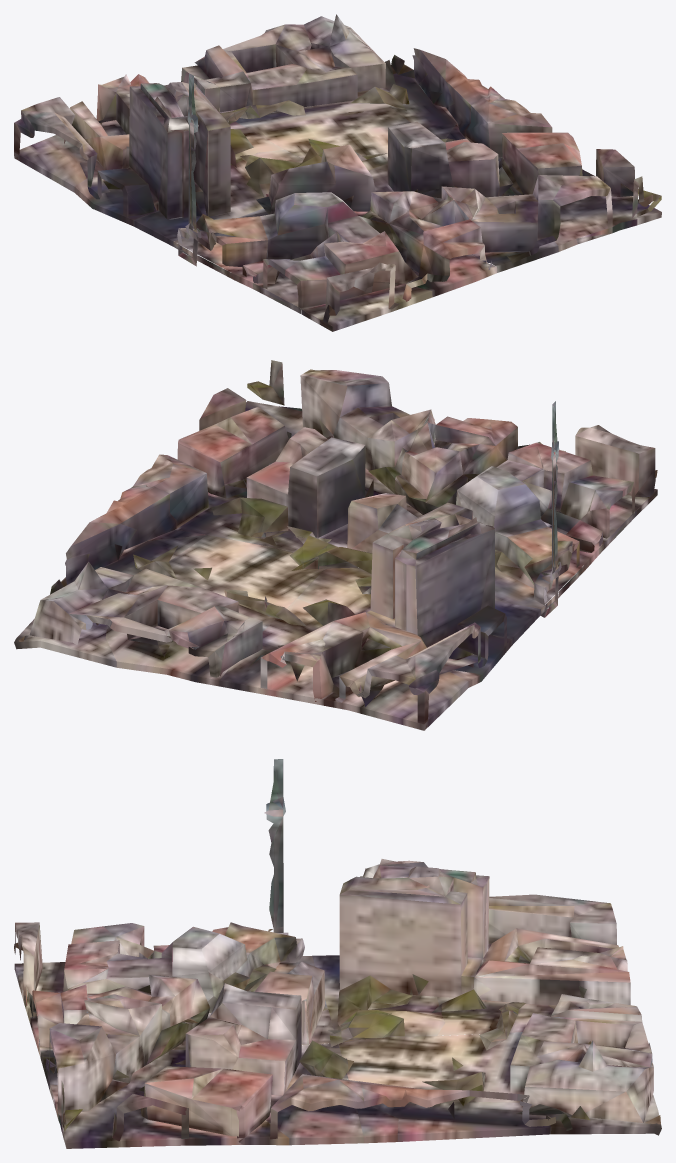
3 views of the same model, one above another, from view 1: azimuth 30°, elevation 25°; view 2: azimuth 150°, elevation 25°; view 3: azimuth 270°, elevation 25° (orthographic). The views are drawn at different scales.
Visible parts, largest first — view 1: Mesh_0; view 2: Mesh_0; view 3: Mesh_0.
Boxes of the visible parts, x1=… form: Mesh_0: x1=14, y1=14, x2=661, y2=331; Mesh_0: x1=14, y1=360, x2=657, y2=730; Mesh_0: x1=14, y1=759, x2=661, y2=1148.
Size of the model in its own units: 266 by 120 by 330.
1 material, 1 textured.
